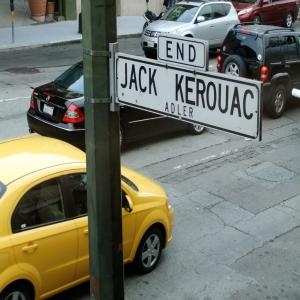Vehicle-registration-plate: (44, 104, 54, 117), (148, 41, 156, 48)
